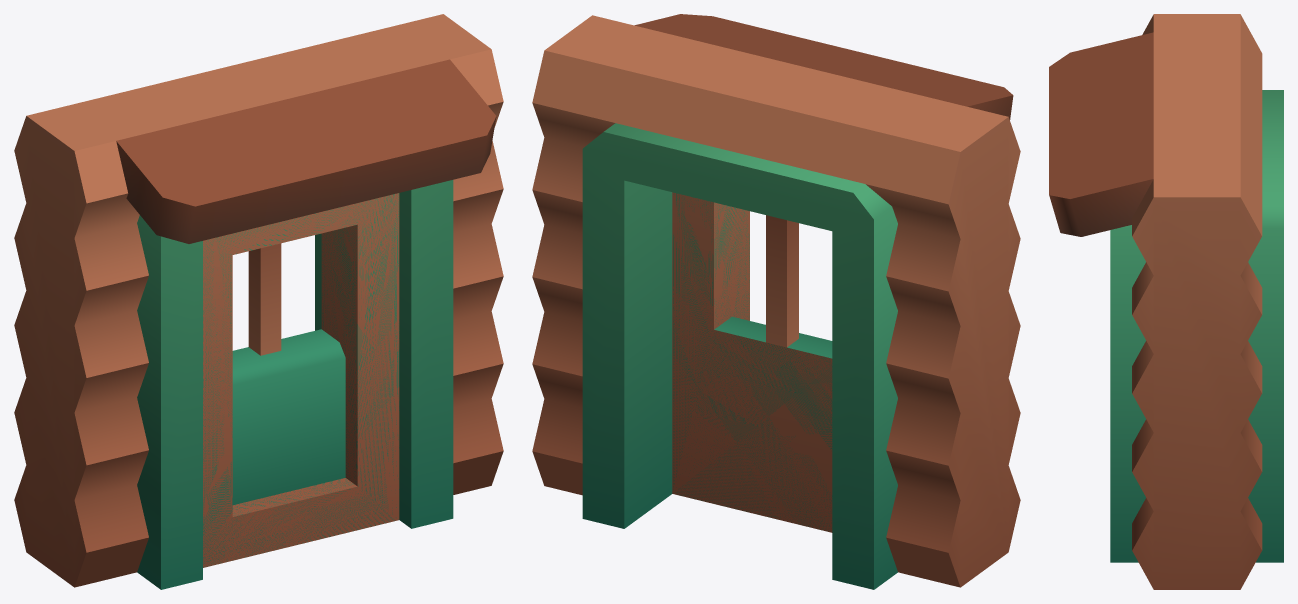
File: cabin-overhang-door-rotate.glb
The picture shows the model from 3 angles, left to right: view 1: azimuth 30°, elevation 25°; view 2: azimuth 150°, elevation 25°; view 3: azimuth 270°, elevation 25°; orthographic projection. The views are drawn at different scales.
Parts seen in each view (by area): view 1: cabin-overhang-door-rotate, door; view 2: cabin-overhang-door-rotate, door; view 3: cabin-overhang-door-rotate.
Boxes of the visible parts, left/top/right/bottom form: cabin-overhang-door-rotate: left=14, top=14, right=503, bottom=589; door: left=203, top=193, right=399, bottom=567; cabin-overhang-door-rotate: left=532, top=14, right=1020, bottom=589; door: left=672, top=192, right=832, bottom=532; cabin-overhang-door-rotate: left=1049, top=14, right=1283, bottom=589.
Size of the model in its own units: 1 by 1 by 0.5415.
